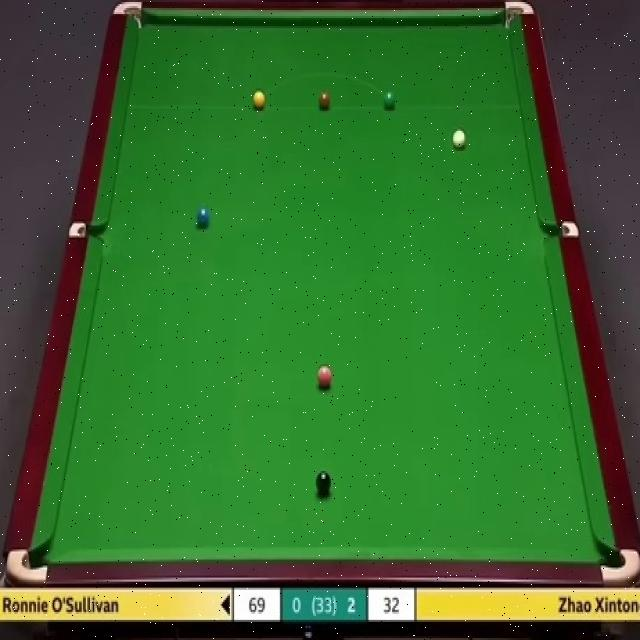black-ball: (316, 470, 331, 496)
blue-ball: (196, 207, 211, 228)
brown-ball: (318, 93, 331, 109)
green-ball: (382, 89, 397, 112)
pink-ball: (316, 364, 333, 392)
white-ball: (452, 129, 467, 151)
yellow-ball: (252, 90, 266, 110)
